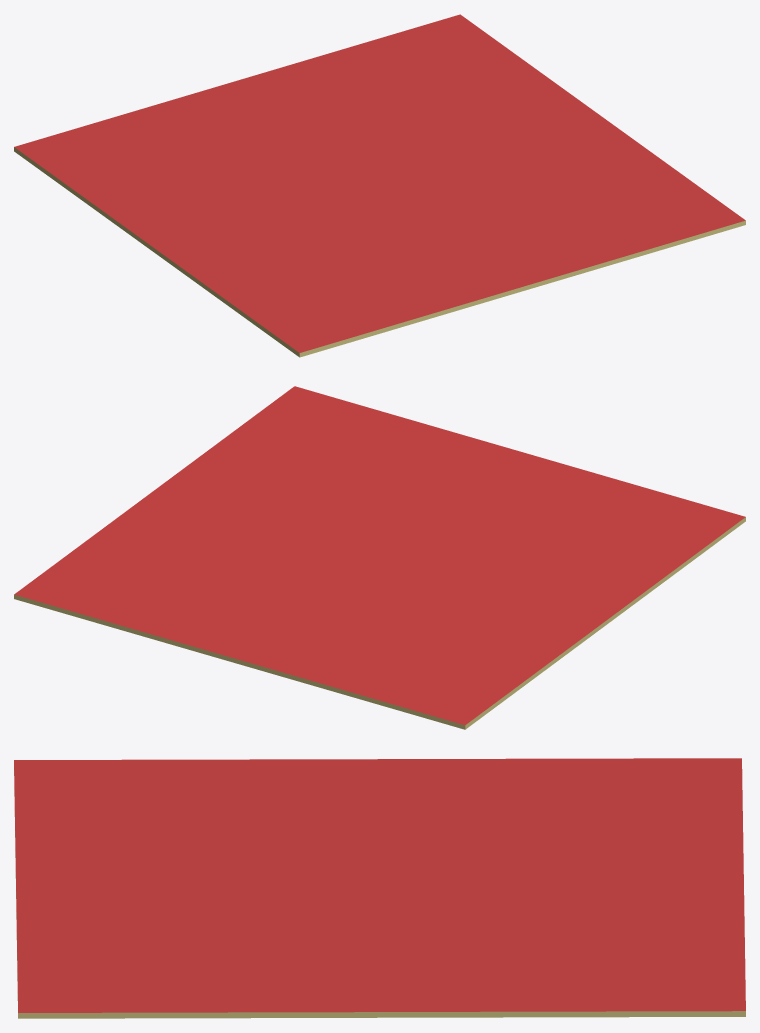
3 views of the same model, one above another, from view 1: azimuth 30°, elevation 25°; view 2: azimuth 150°, elevation 25°; view 3: azimuth 270°, elevation 25° (orthographic). The views are drawn at different scales.
Size of the model in its own units: 10.61 by 11.58 by 0.598.
